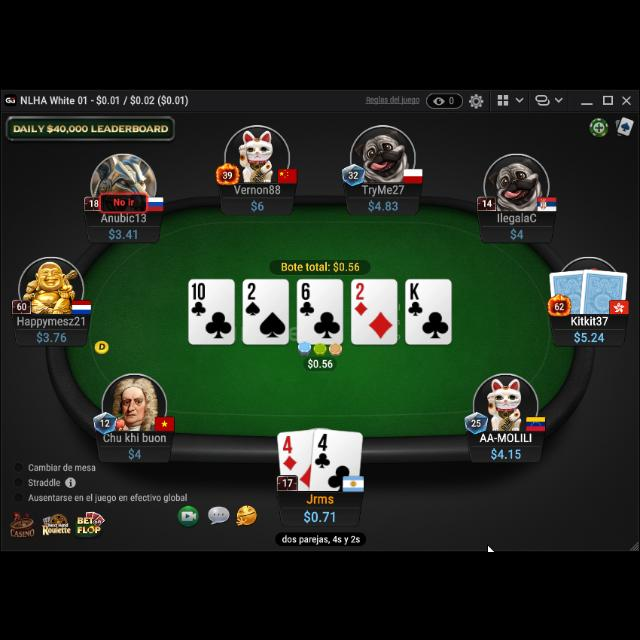2d: (354, 280, 368, 314)
2s: (244, 279, 262, 315)
4c: (314, 429, 331, 468)
4d: (282, 432, 300, 471)
6c: (298, 280, 316, 318)
Kc: (408, 280, 424, 316)
Tc: (191, 278, 209, 316)
bet_text: (306, 354, 336, 368)
card_back: (579, 264, 629, 314), (546, 266, 590, 316)
dealer: (93, 337, 111, 355)
pot_text: (281, 257, 361, 271)
stack_text: (303, 508, 337, 526), (107, 224, 139, 240), (34, 328, 66, 344), (572, 328, 606, 342), (366, 198, 399, 212), (490, 446, 522, 460), (126, 445, 142, 461), (508, 226, 526, 240), (249, 198, 265, 212)
